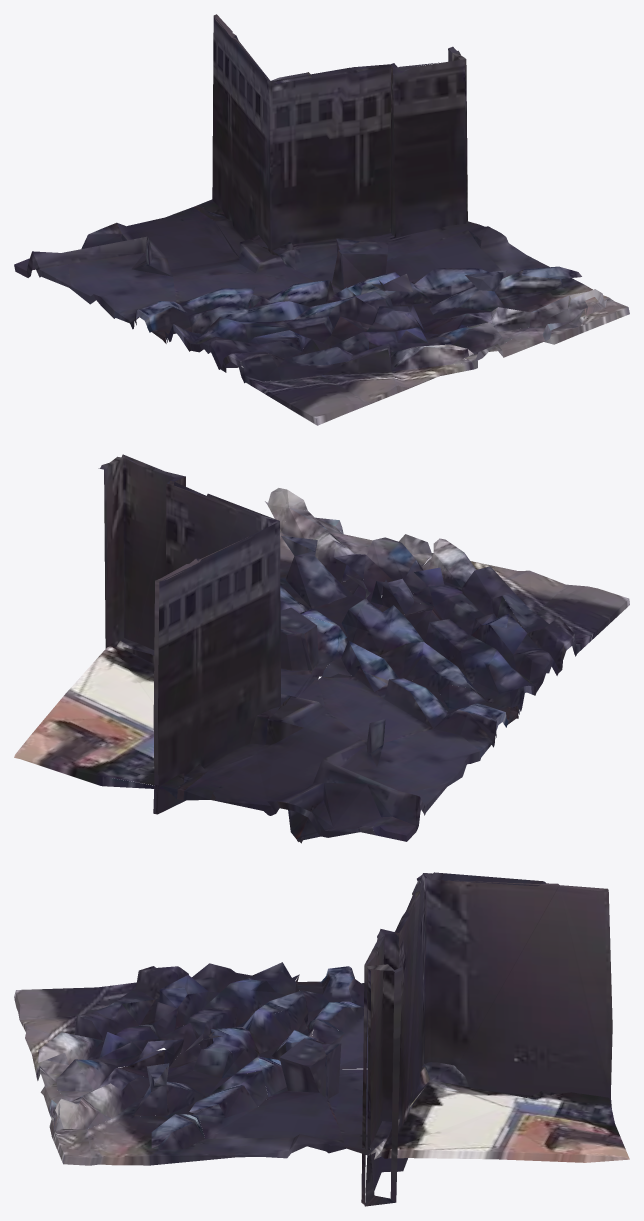
The picture shows the model from 3 angles, top to bottom: view 1: azimuth 30°, elevation 25°; view 2: azimuth 150°, elevation 25°; view 3: azimuth 270°, elevation 25°; orthographic projection. The views are drawn at different scales.
Parts seen in each view (by area): view 1: Mesh_0; view 2: Mesh_0; view 3: Mesh_0.
Part boxes in pixels (<box>): Mesh_0: <box>14,14,629,425</box>; Mesh_0: <box>14,454,629,843</box>; Mesh_0: <box>14,872,629,1206</box>.
Bounding box in the file's own units: 33.31 × 18.73 × 41.33.
2 materials, 2 textured.
